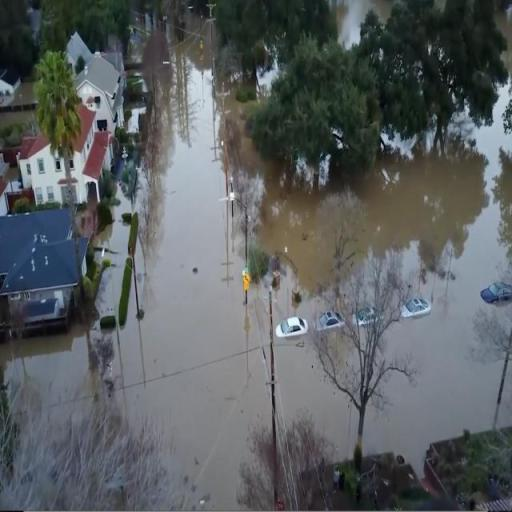flood: (0, 22, 512, 511), (337, 0, 392, 44)
house: (1, 204, 91, 344), (72, 84, 118, 215), (6, 129, 66, 213), (76, 44, 126, 142)
